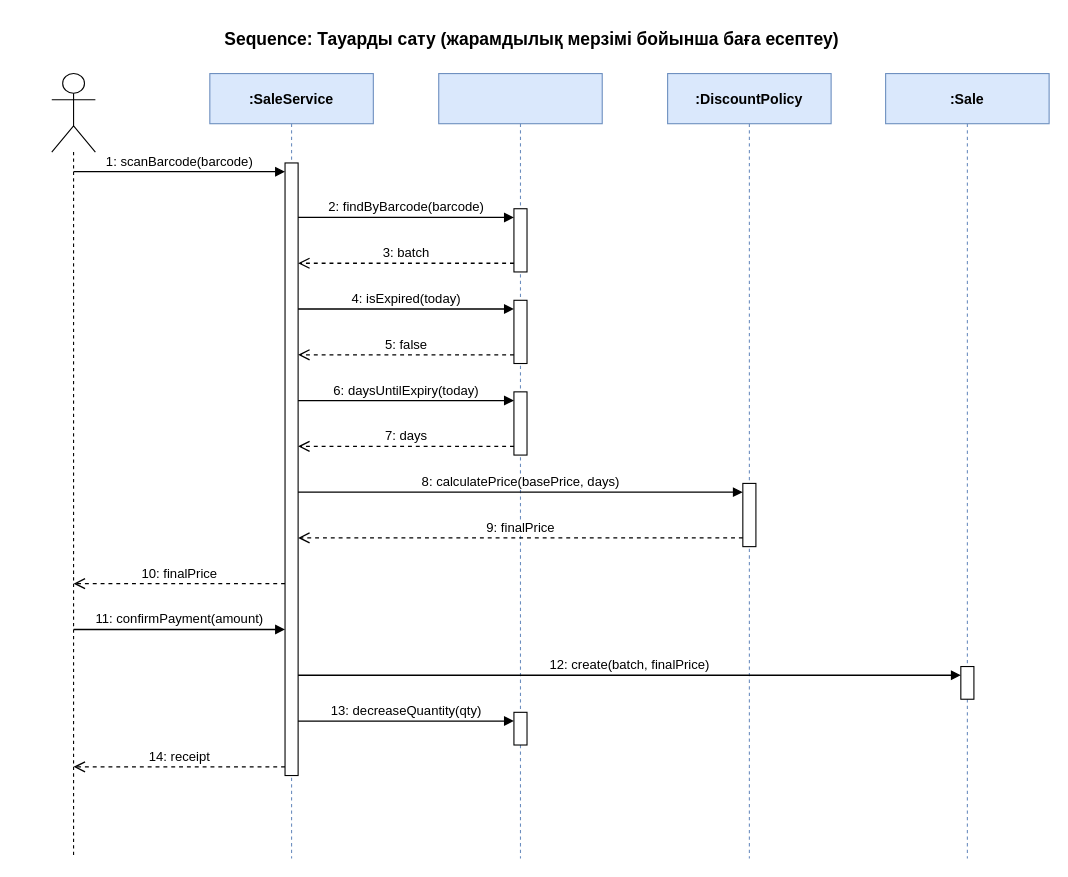
This 1068x877 diagram has some shape labels left out. Here are the shapes that lost their labels. From the top down, the box of each, then its label:
(51, 72, 95, 858): Кассир
(438, 72, 602, 858): :Batch
